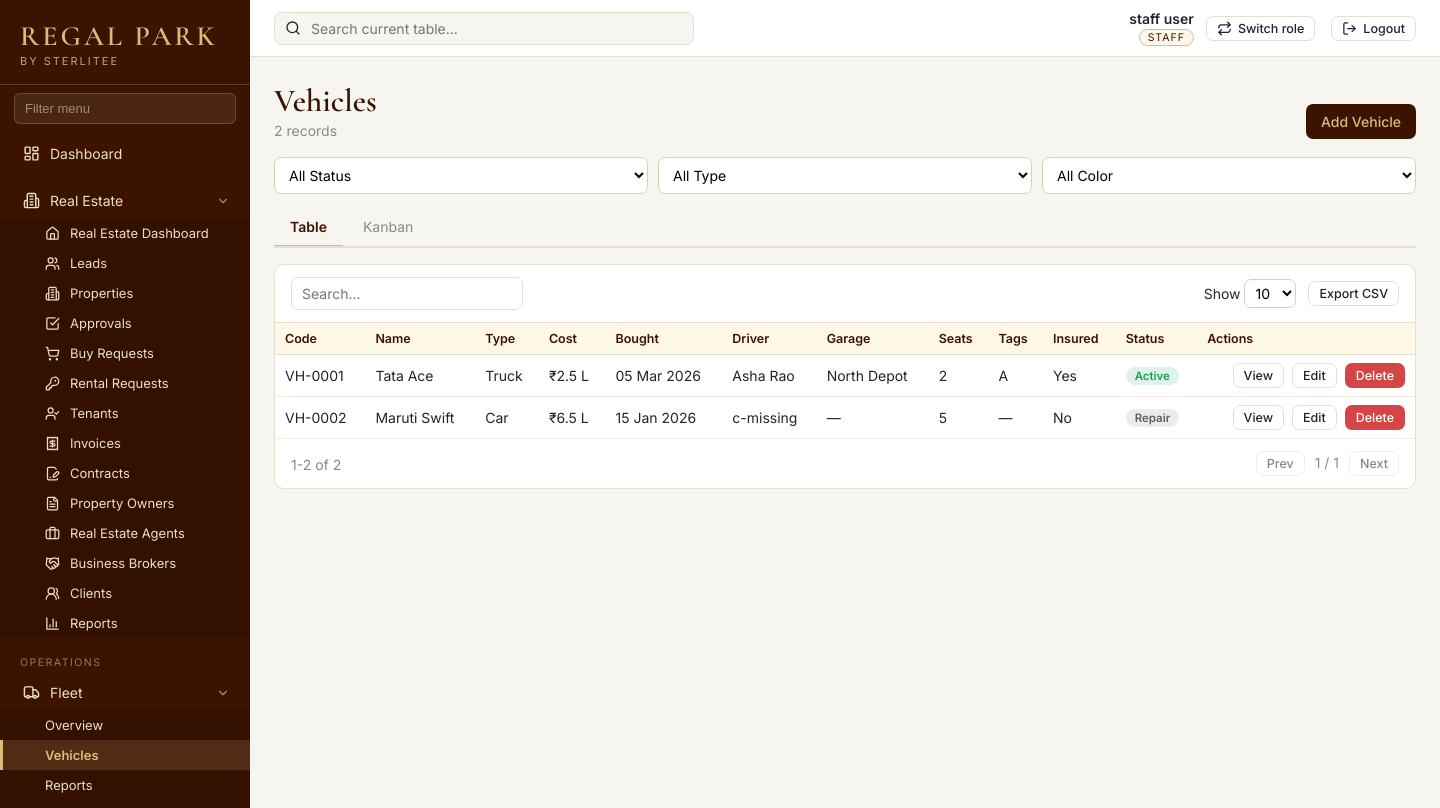
ModuleTable › form field types: datetime -> date input, url -> text input, money -> number
Expected: the button "Logout" is shown, [1331, 16, 1416, 40]
Expected: the text "Asha Rao" is shown, [722, 354, 817, 396]
Step 1. Click the button "Add Vehicle" → x=1361, y=122, box [1306, 104, 1416, 139]
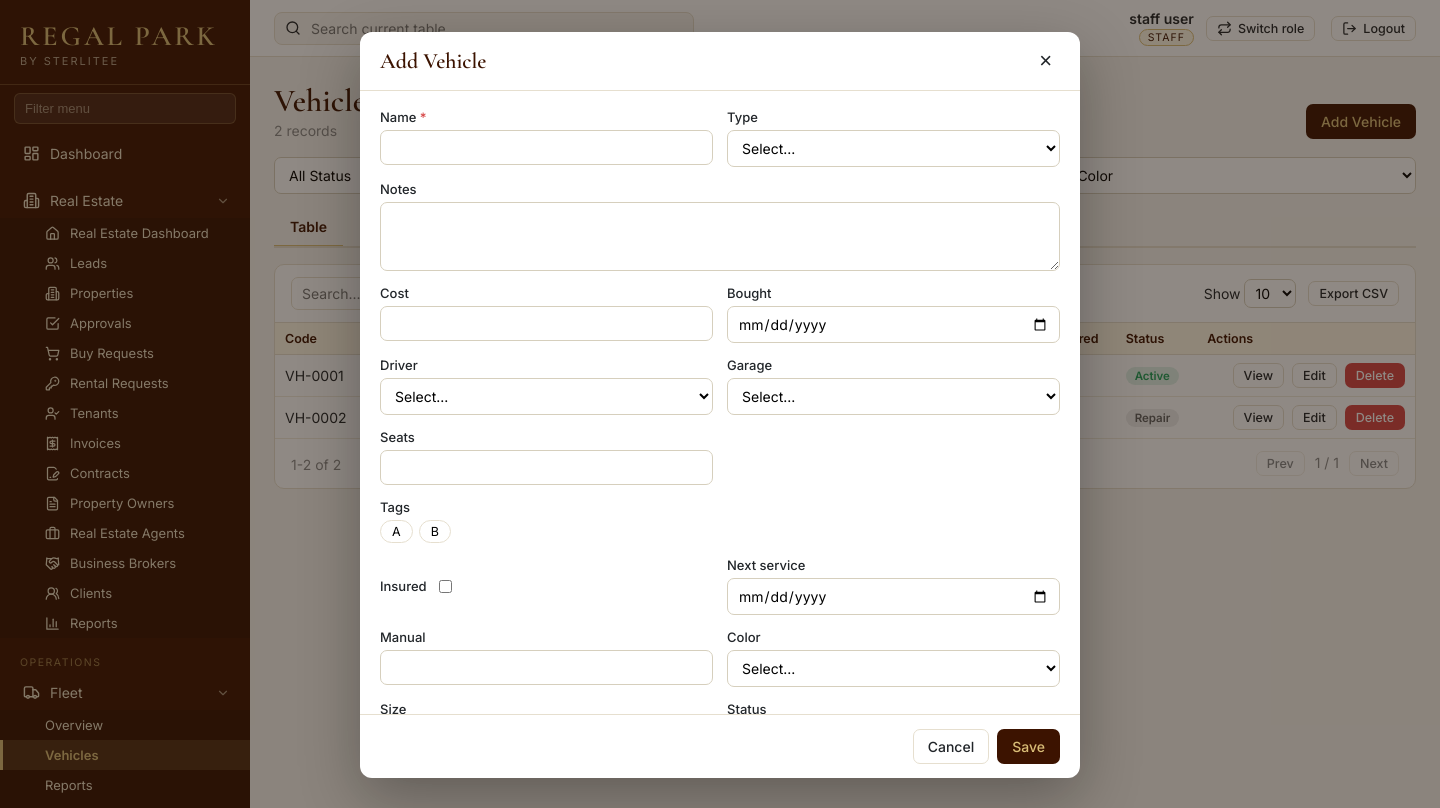
Expected: the dialog with class "modal" is shown, [360, 32, 1080, 778]
